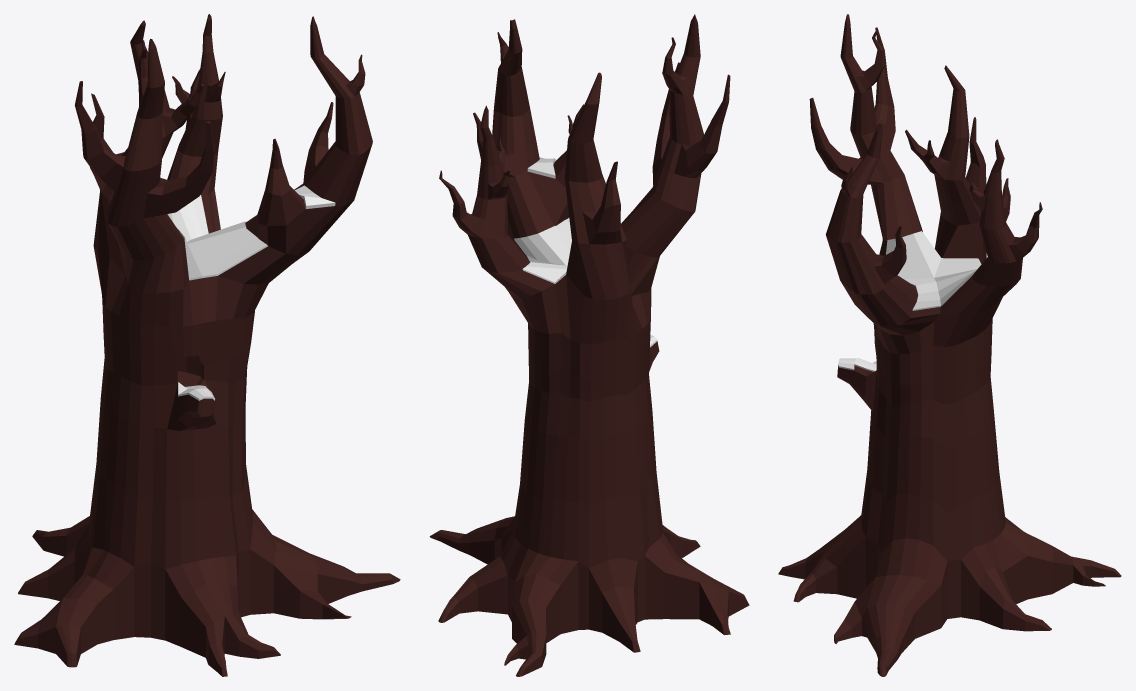
Rendered from BigTreeb.fbx.
The picture shows the model from 3 angles, left to right: view 1: azimuth 30°, elevation 25°; view 2: azimuth 150°, elevation 25°; view 3: azimuth 270°, elevation 25°; orthographic projection. The views are drawn at different scales.
Parts seen in each view (by area): view 1: BigTreeb; view 2: BigTreeb; view 3: BigTreeb.
Part boxes in pixels (x1,y1,x2,y2): BigTreeb: (14,14,400,676); BigTreeb: (429,14,749,676); BigTreeb: (778,14,1121,676).
Bounding box in the file's own units: 4697 × 7799 × 4440.
